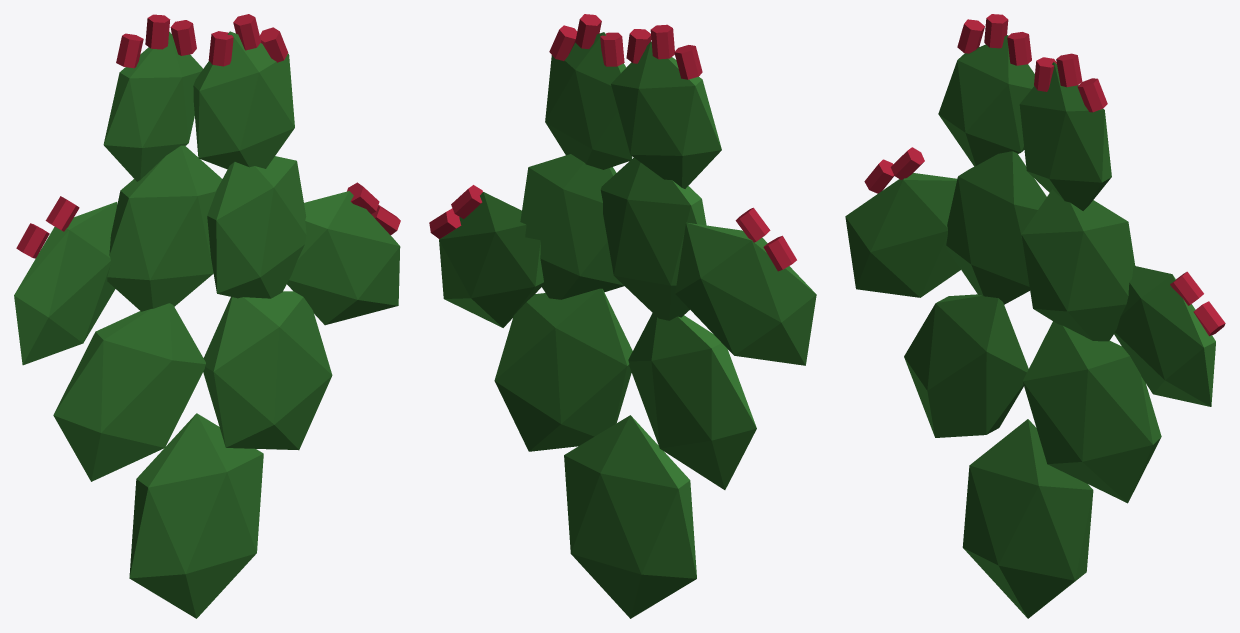
The model's file is NopalSilvestre.obj.
3 renders of one model, left to right at view 1: azimuth 30°, elevation 25°; view 2: azimuth 150°, elevation 25°; view 3: azimuth 330°, elevation 25°, orthographic. The views are drawn at different scales.
Parts seen in each view (by area): view 1: Nopal_Silvestre; view 2: Nopal_Silvestre; view 3: Nopal_Silvestre.
Part boxes in pixels (x1=…): Nopal_Silvestre: x1=14, y1=14, x2=400, y2=618; Nopal_Silvestre: x1=429, y1=14, x2=816, y2=618; Nopal_Silvestre: x1=845, y1=14, x2=1225, y2=618.
Bounding box in the file's own units: 2.16 × 3.24 × 0.2961.
